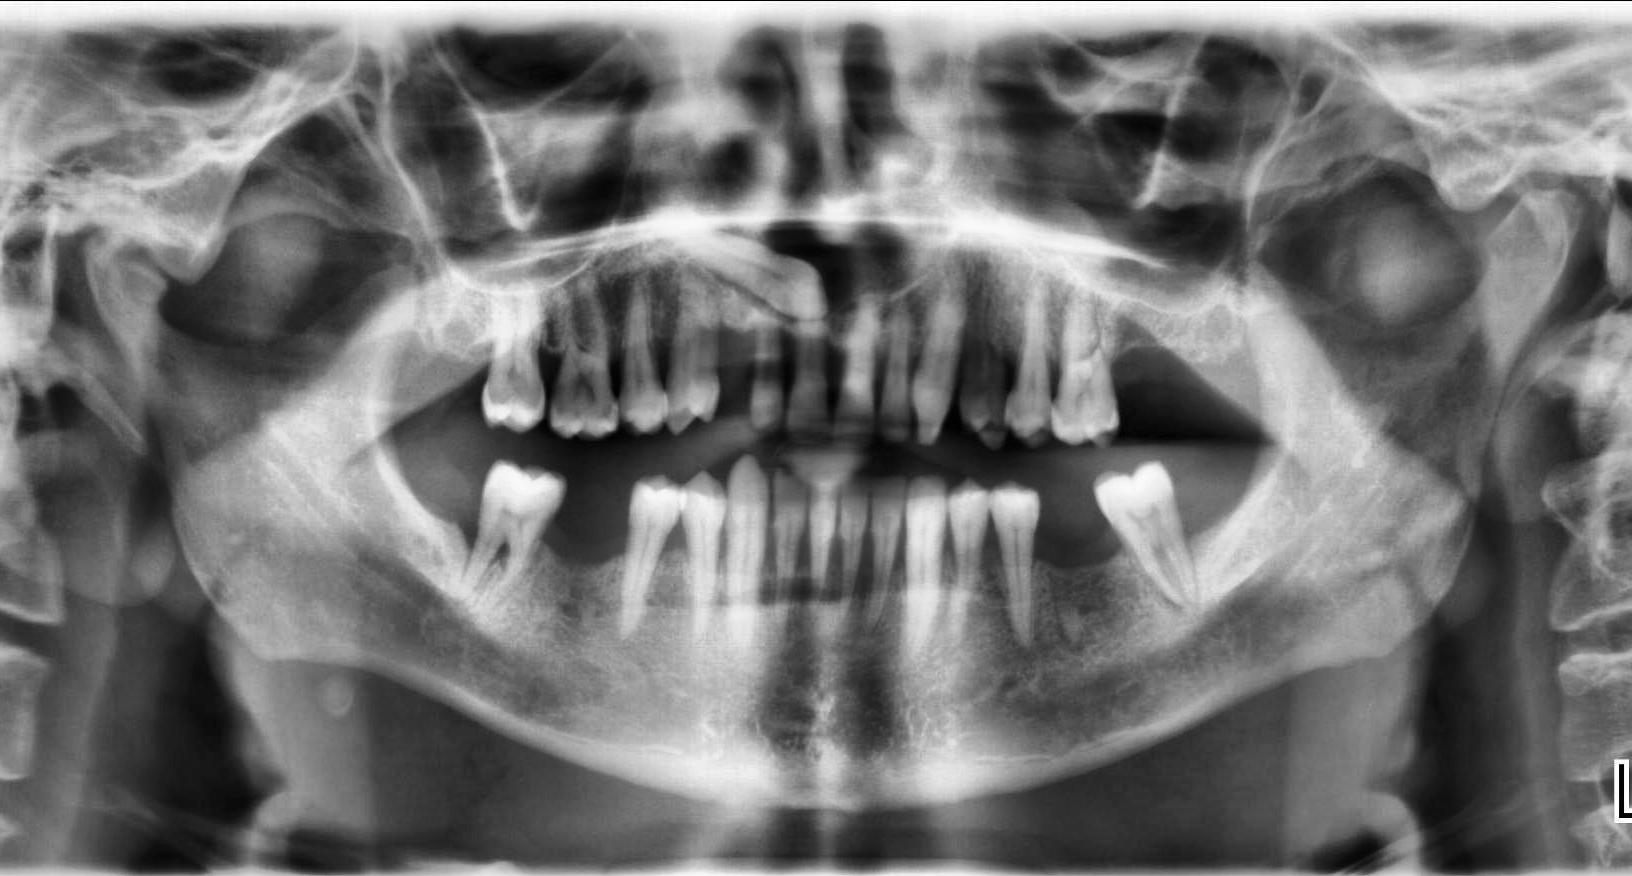keratokist: (702, 187, 959, 325)
